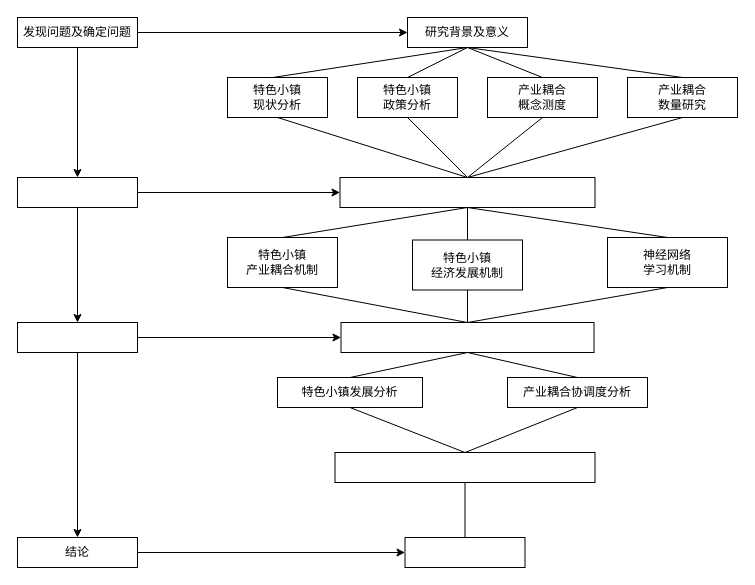
Some shapes in this 755 by 585 pixel diagram are drawn without their labels. The shapes that lost their labels are listed below. From the top down, each one's box as (x1, y1, x2, y2) in pixels, then its label:
(16, 176, 138, 208): 理论研究
(339, 176, 595, 208): 特色小镇与区域产业发展耦合关系的理论命题
(16, 322, 138, 352): 实证研究
(340, 322, 594, 352): 特色小镇与区域产业发展耦合关系的实证分析
(334, 452, 595, 482): 特色小镇与区域产业发展耦合关系的命题检验
(404, 536, 525, 568): 结论分析与研究展望
